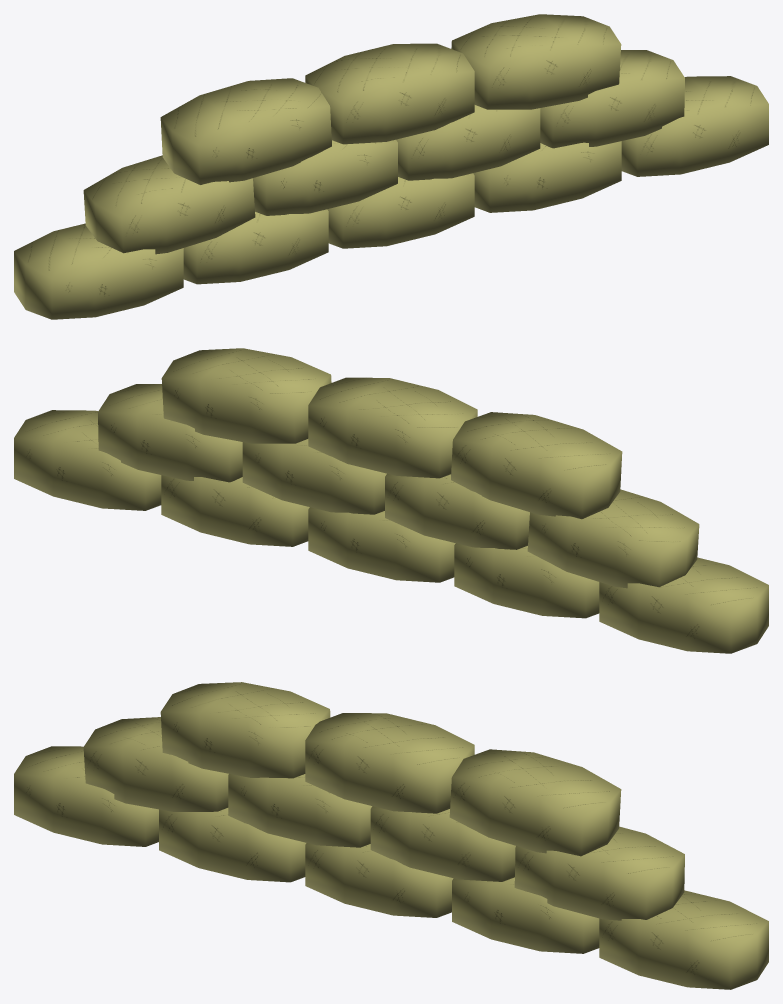
The model's file is Sandbags Line.glb.
3 views of the same model, one above another, from view 1: azimuth 30°, elevation 25°; view 2: azimuth 150°, elevation 25°; view 3: azimuth 330°, elevation 25° (orthographic).
Parts seen in each view (by area): view 1: sandbag_ Line; view 2: sandbag_ Line; view 3: sandbag_ Line.
Boxes of the visible parts, x1,y1,x2,y2 form: sandbag_ Line: (14,14,768,319); sandbag_ Line: (14,348,768,653); sandbag_ Line: (14,682,768,989).
Size of the model in its own units: 5.6 by 1.17 by 0.5614.
Materials: 1 (1 with a texture image).
